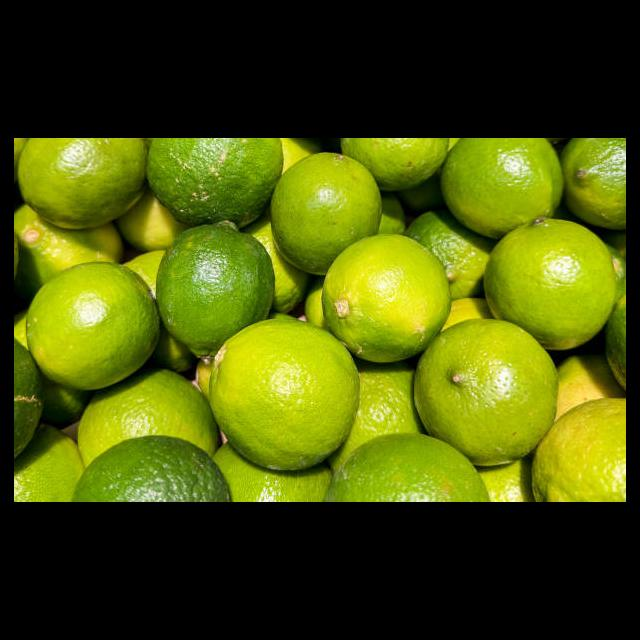lime: (27, 263, 160, 393), (324, 235, 452, 365), (147, 138, 287, 231)
